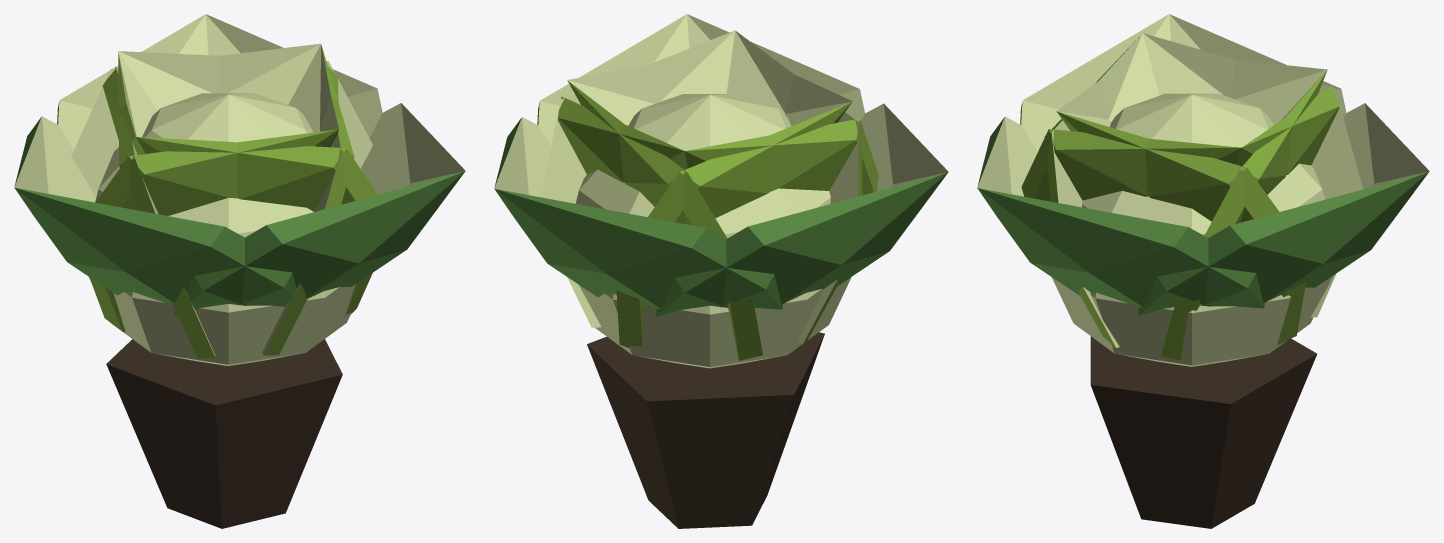
Rendered from mdvl_farm_cabbage_stage_01.glb.
3 renders of one model, left to right at view 1: azimuth 30°, elevation 25°; view 2: azimuth 150°, elevation 25°; view 3: azimuth 270°, elevation 25°, orthographic.
Parts seen in each view (by area): view 1: mdvl_farm_cabbage_stage_01; view 2: mdvl_farm_cabbage_stage_01; view 3: mdvl_farm_cabbage_stage_01.
Part boxes in pixels (x1,y1,x2,y2): mdvl_farm_cabbage_stage_01: (14,14,465,528); mdvl_farm_cabbage_stage_01: (494,14,948,528); mdvl_farm_cabbage_stage_01: (977,14,1429,528).
Size of the model in its own units: 0.0936 by 0.0909 by 0.0902.
1 material, 1 textured.
